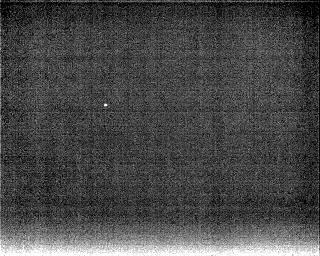BIRD: (102, 101, 109, 110)
